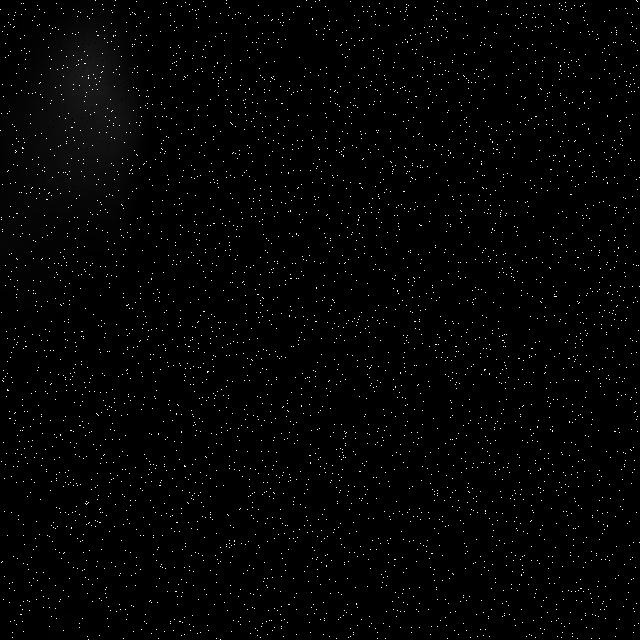person: (1, 1, 208, 495)
